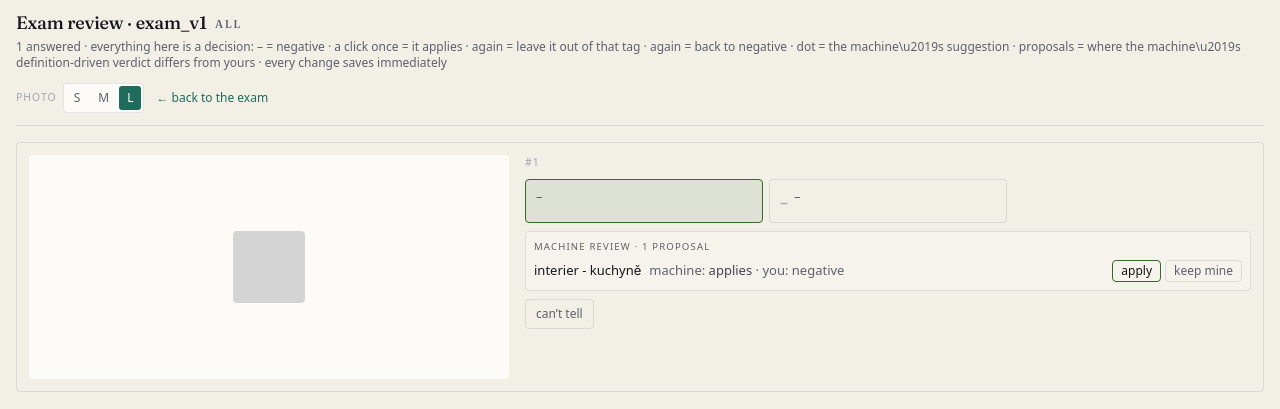
Test: <NewDedupExamReview> machine review proposals › keep mine records a dismissal and hides the proposal without touching the answer
Expected: the text "1 answered" is shown, left=16, top=39, right=1264, bottom=71
Click the button "keep mine" at (1204, 271), box left=1165, top=260, right=1242, bottom=282
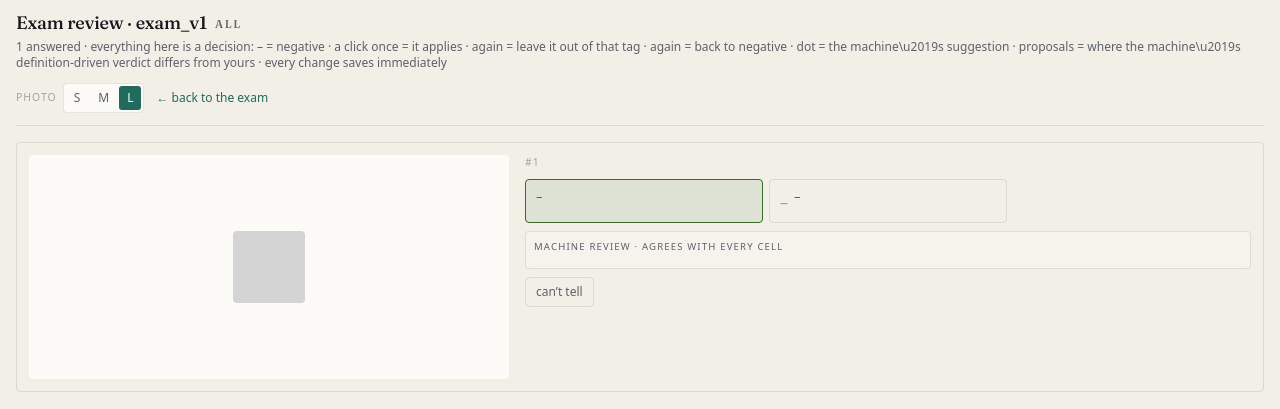
Now the list item with test id "proposal-555-25" is gone
